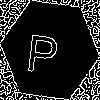P: (25, 25, 61, 75)
